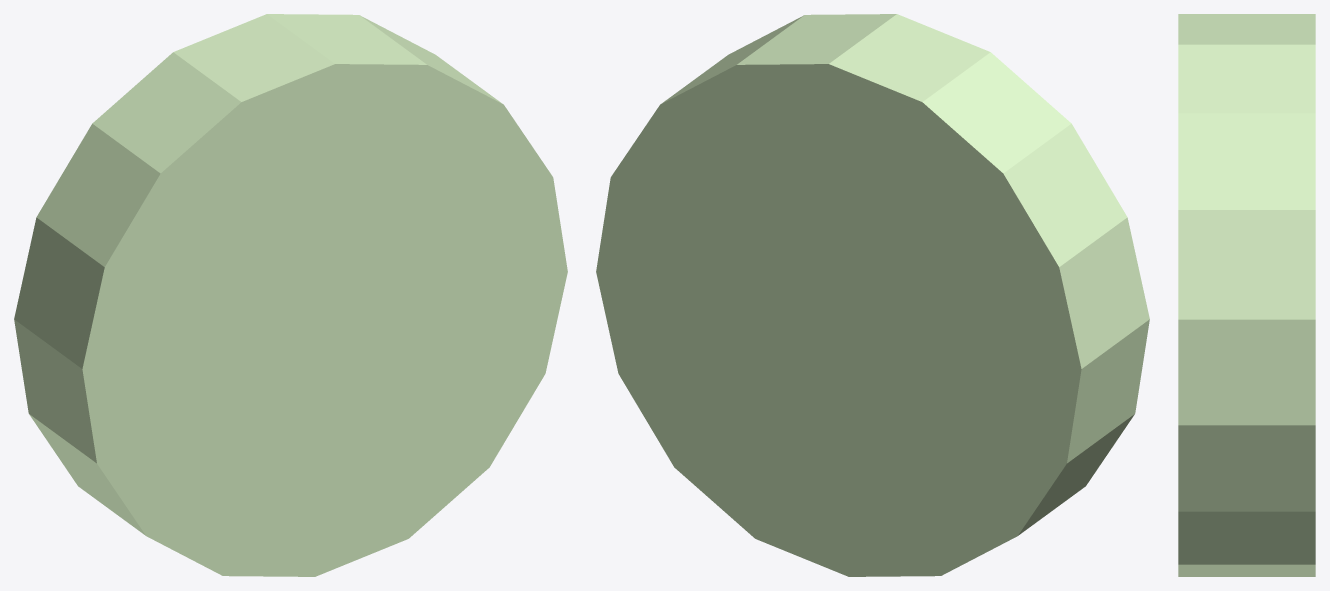
File: kuka_link6_resp_coll_1.dae
The picture shows the model from 3 angles, left to right: view 1: azimuth 30°, elevation 25°; view 2: azimuth 150°, elevation 25°; view 3: azimuth 270°, elevation 25°; orthographic projection.
Parts seen in each view (by area): view 1: Node_0000015C5C9144E0; view 2: Node_0000015C5C9144E0; view 3: Node_0000015C5C9144E0.
Part boxes in pixels (x1,y1,x2,y2): Node_0000015C5C9144E0: (14, 14, 567, 576); Node_0000015C5C9144E0: (596, 14, 1149, 576); Node_0000015C5C9144E0: (1178, 14, 1315, 576).
Bounding box in the file's own units: 0.1354 × 0.1354 × 0.033.
